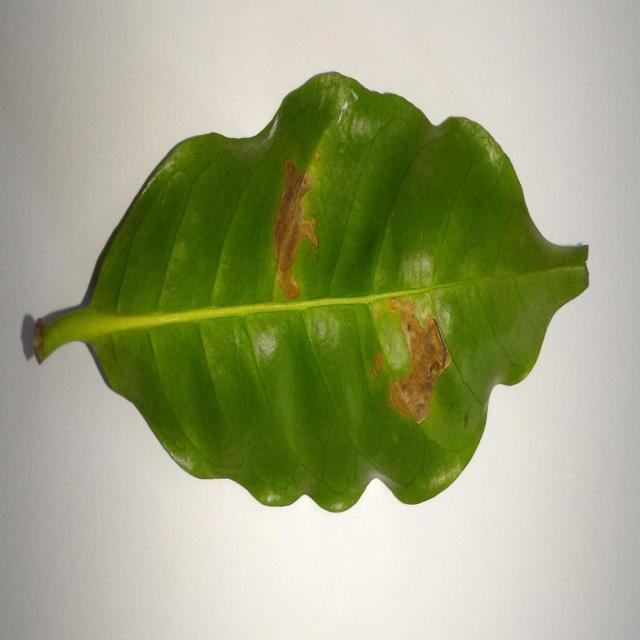miner: (389, 298, 452, 424), (273, 161, 318, 299), (372, 352, 383, 377)
